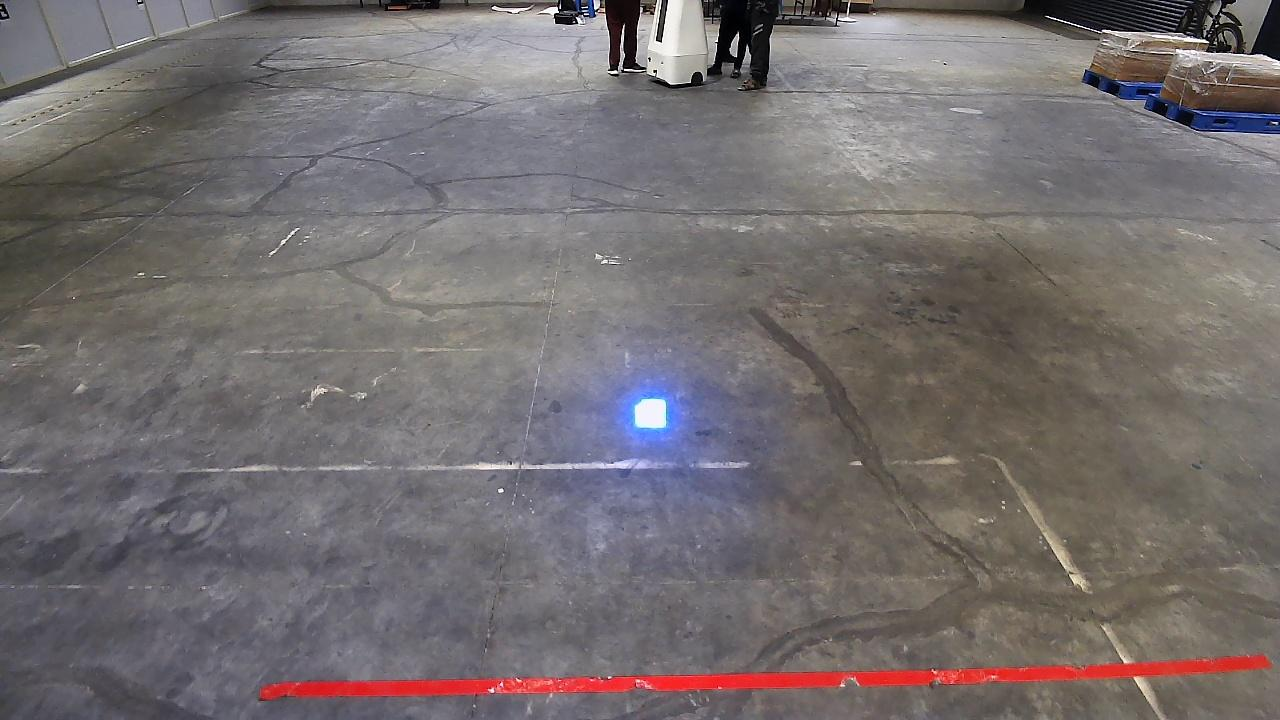red_line: (260, 652, 1270, 696)
